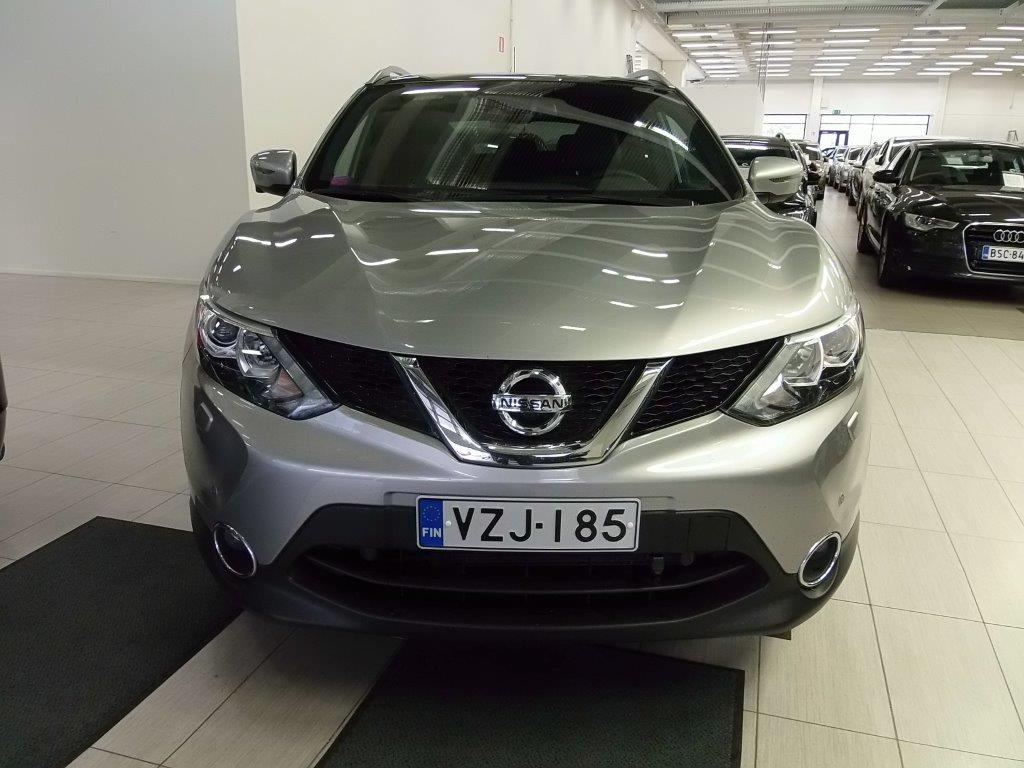license: (413, 492, 634, 553)
